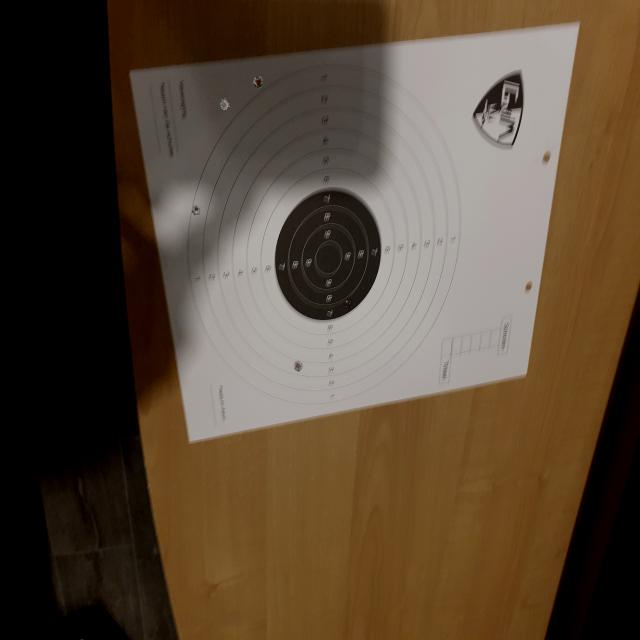0: (253, 76, 263, 89), (220, 98, 230, 111)
1: (191, 205, 201, 217)
4: (294, 360, 303, 372)
7: (342, 297, 353, 309)
Target: (185, 60, 463, 408)
black_contour: (274, 188, 382, 321)
